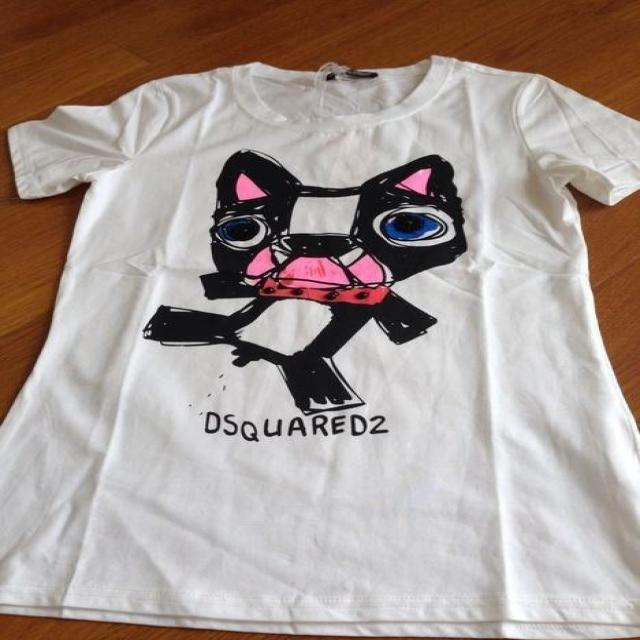short sleeve top: (3, 56, 639, 637)
